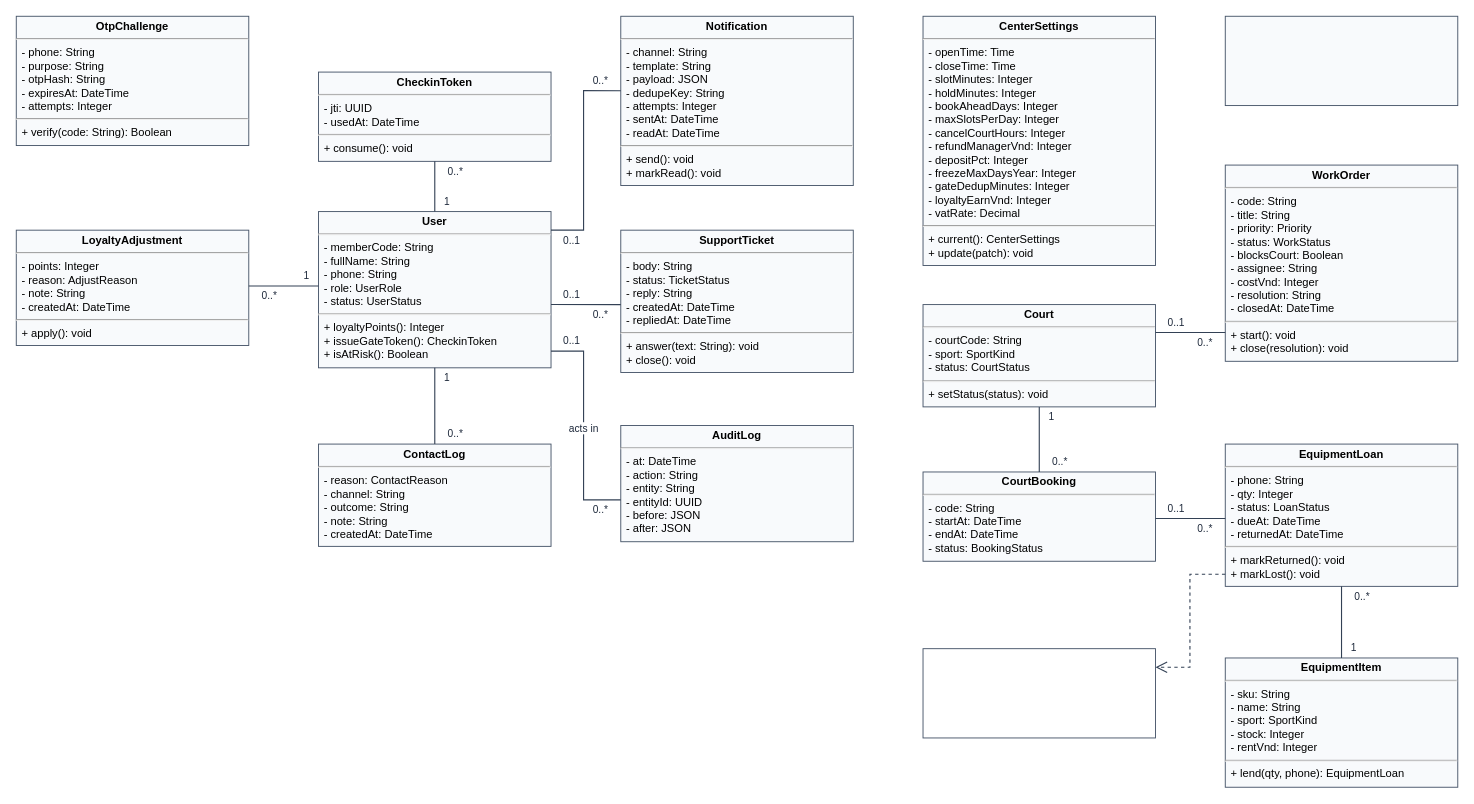
This 1474x804 diagram has some shape labels left out. Here are the shapes that lost their labels. From the top down, the centre of each, then its label:
At (1341,60): "FeatureFlag - key: String - enabled: Boolean + toggle(): void".
At (1039,693): "«enumeration» LoanStatus out returned lost".
